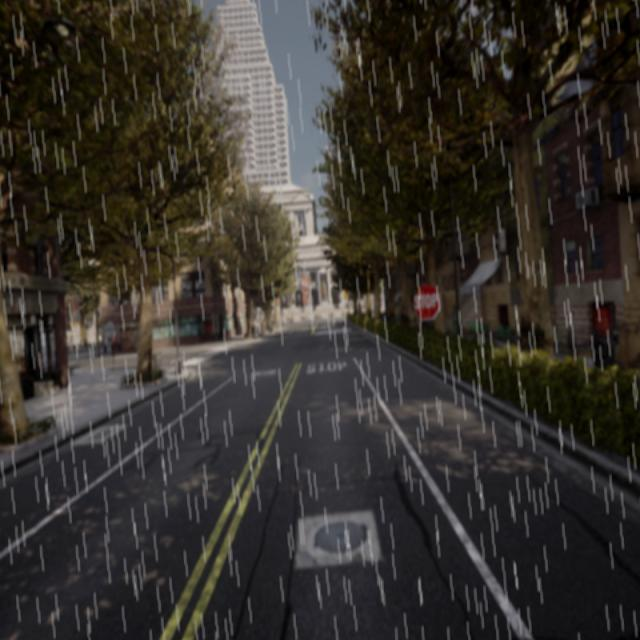stop sign: (412, 280, 442, 322)
